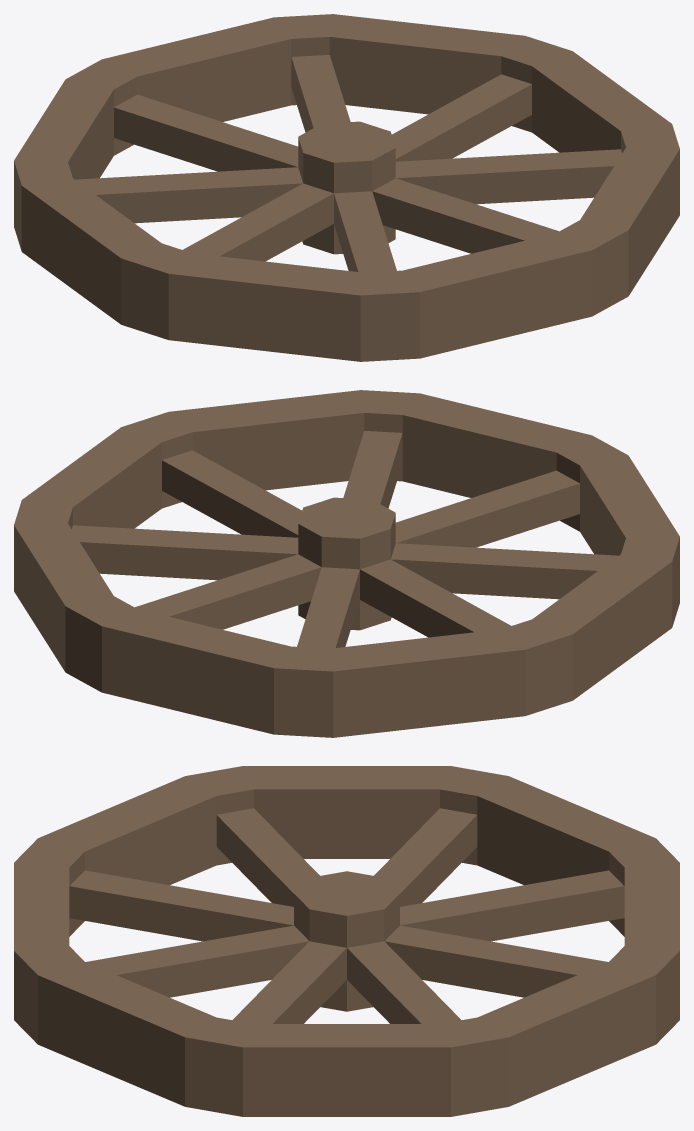
File: rueda.fbx
3 renders of one model, top to bottom at view 1: azimuth 30°, elevation 25°; view 2: azimuth 150°, elevation 25°; view 3: azimuth 270°, elevation 25°, orthographic. The views are drawn at different scales.
Visible parts, largest first — view 1: Cylinder.001; view 2: Cylinder.001; view 3: Cylinder.001.
Boxes of the visible parts, x1,y1,x2,y2 form: Cylinder.001: (14,14,679,361); Cylinder.001: (14,390,679,737); Cylinder.001: (14,766,679,1116).
Bounding box in the file's own units: 485 × 77.06 × 485.
